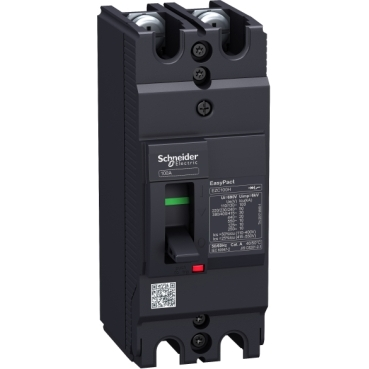BREACKER: (89, 2, 282, 368)
